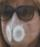with_mask: (2, 2, 40, 47)
